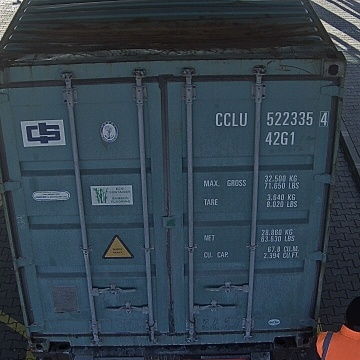serial_id: (214, 111, 328, 127)
